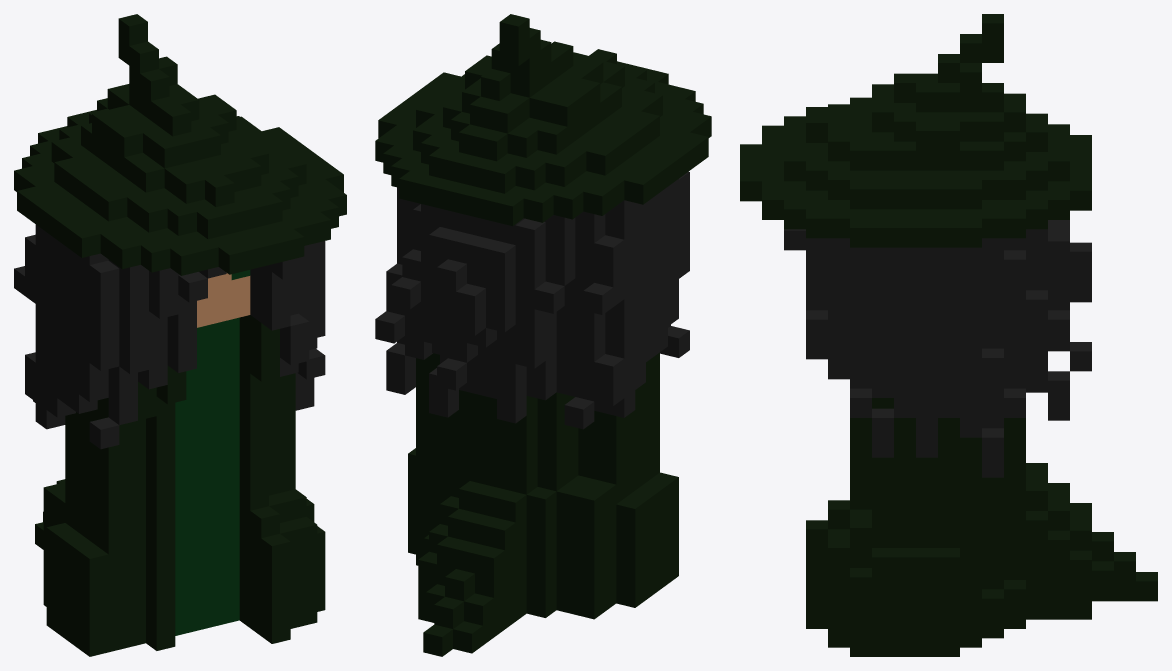
The model's file is Bruxa 03 - Andando-01.obj.
3 renders of one model, left to right at view 1: azimuth 30°, elevation 25°; view 2: azimuth 150°, elevation 25°; view 3: azimuth 270°, elevation 25°, orthographic.
Size of the model in its own units: 14 by 29 by 19.
1 material, 1 textured.
